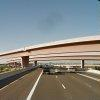Bridge: (1, 35, 99, 72)
